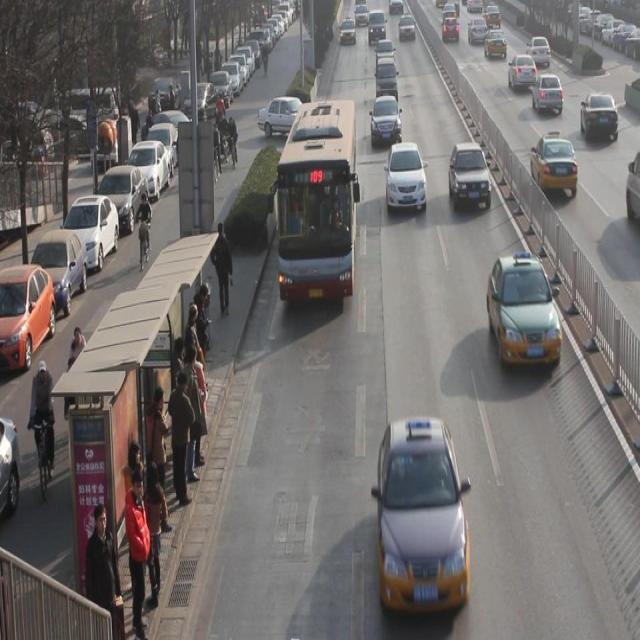car: (378, 418, 471, 612), (487, 252, 562, 368), (531, 130, 578, 200), (449, 141, 492, 212), (387, 142, 427, 210), (580, 91, 619, 142), (372, 96, 402, 146), (532, 74, 564, 114), (508, 54, 537, 91), (526, 36, 551, 66), (484, 26, 507, 58), (467, 17, 488, 45), (399, 12, 416, 41), (376, 38, 394, 65), (442, 16, 459, 42), (341, 17, 356, 46)
truck: (376, 57, 398, 99), (369, 9, 386, 46)
van: (275, 102, 355, 300)
